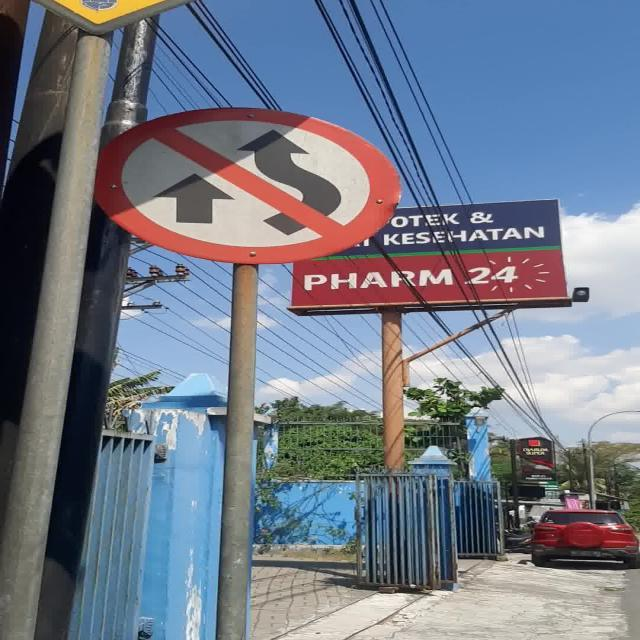Dilarang Mendahului: (99, 108, 398, 264)
